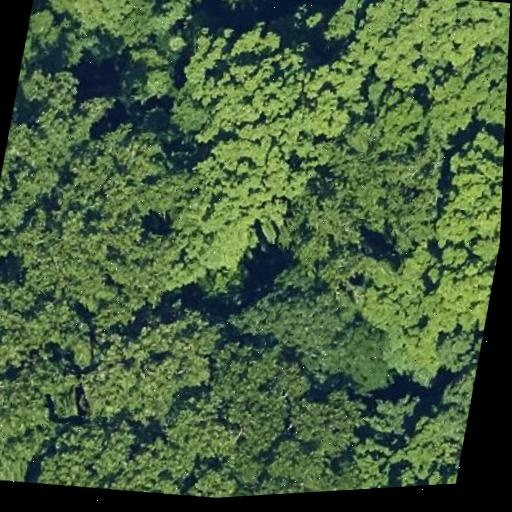tree-top: (152, 13, 352, 162), (324, 0, 512, 103), (79, 302, 217, 435), (283, 241, 433, 358), (0, 52, 107, 214), (54, 104, 173, 234), (242, 251, 375, 367), (189, 139, 302, 272), (276, 132, 403, 247), (22, 0, 203, 76), (197, 333, 306, 457), (10, 201, 122, 310), (429, 119, 505, 263), (373, 316, 482, 403), (32, 411, 140, 496), (282, 378, 373, 467), (352, 69, 439, 160), (353, 250, 438, 343), (250, 433, 366, 496), (391, 397, 470, 487), (108, 224, 193, 307), (424, 250, 498, 341), (125, 420, 205, 500), (0, 367, 53, 486), (0, 265, 48, 384), (419, 362, 477, 451), (34, 433, 110, 493), (361, 381, 427, 441), (180, 457, 248, 500), (308, 0, 365, 50), (470, 68, 508, 136), (191, 0, 285, 15), (364, 476, 441, 489), (420, 461, 459, 486)
